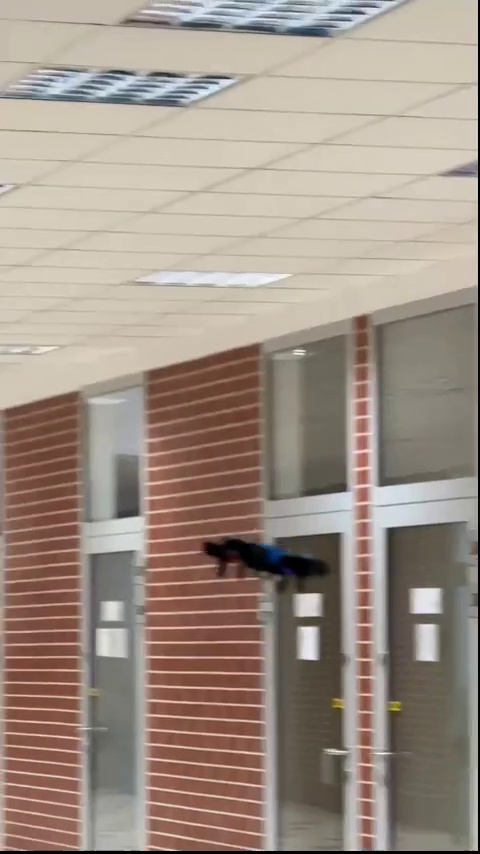drone: (198, 529, 326, 587)
